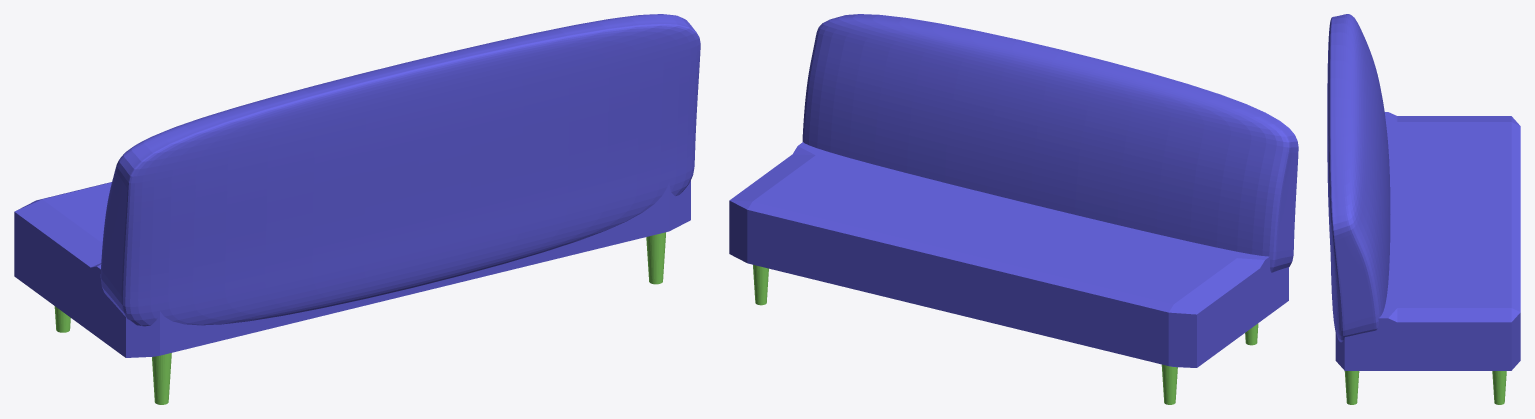
The model's file is sofa_3.glb.
3 renders of one model, left to right at view 1: azimuth 30°, elevation 25°; view 2: azimuth 150°, elevation 25°; view 3: azimuth 270°, elevation 25°, orthographic. The views are drawn at different scales.
Visible parts, largest first — view 1: 柱体.003; view 2: 柱体.003; view 3: 柱体.003.
Boxes of the visible parts, x1,y1,x2,y2 form: 柱体.003: [14, 14, 700, 404]; 柱体.003: [729, 14, 1298, 404]; 柱体.003: [1327, 14, 1520, 404].
Size of the model in its own units: 1.98 by 0.939 by 0.773.
